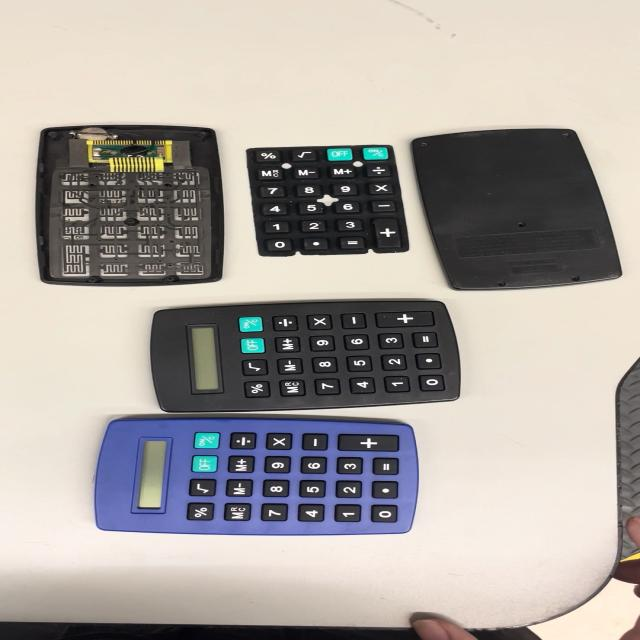back_cover: (402, 125, 632, 296)
calculator: (83, 416, 427, 545), (140, 304, 478, 412)
front_panel: (34, 124, 225, 284)
number_pad: (244, 141, 418, 263)
